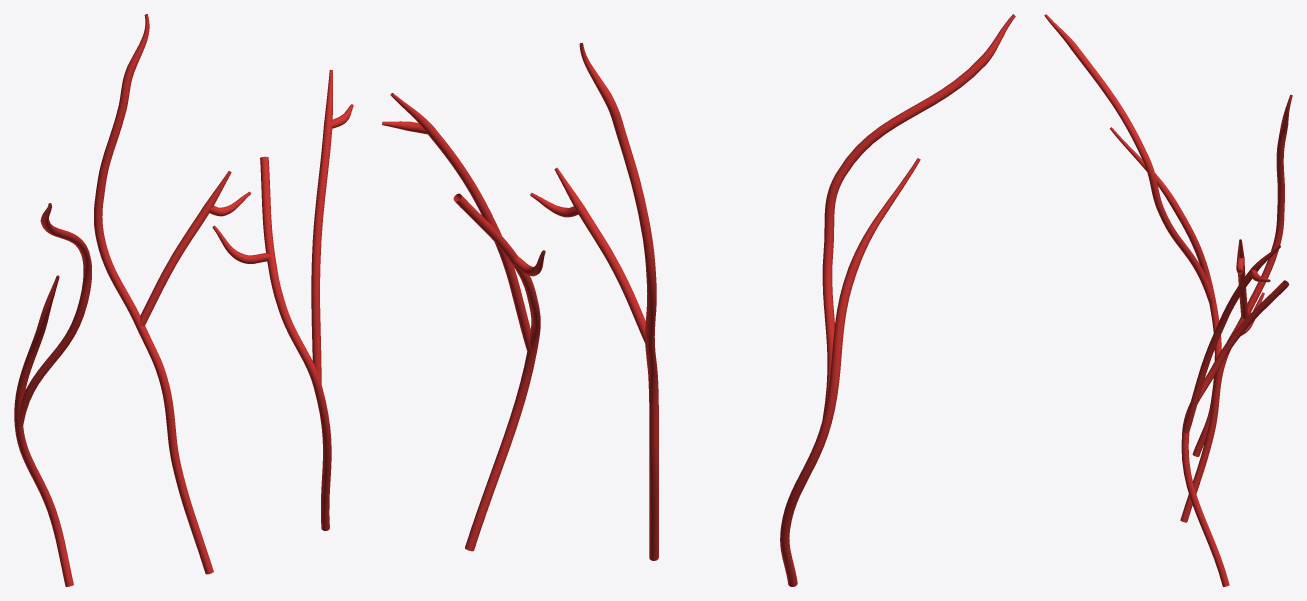
File: circulatorio-distal-lateral-striate-branches-r.glb
The picture shows the model from 3 angles, left to right: view 1: azimuth 30°, elevation 25°; view 2: azimuth 150°, elevation 25°; view 3: azimuth 270°, elevation 25°; orthographic projection. The views are drawn at different scales.
Parts seen in each view (by area): view 1: Distal lateral striate branches.r; view 2: Distal lateral striate branches.r; view 3: Distal lateral striate branches.r.
Part boxes in pixels (x1,y1,x2,y2): Distal lateral striate branches.r: (14,14,353,586); Distal lateral striate branches.r: (382,14,1015,586); Distal lateral striate branches.r: (1044,14,1292,586).
Bounding box in the file's own units: 0.0116 × 0.0132 × 0.00683.
